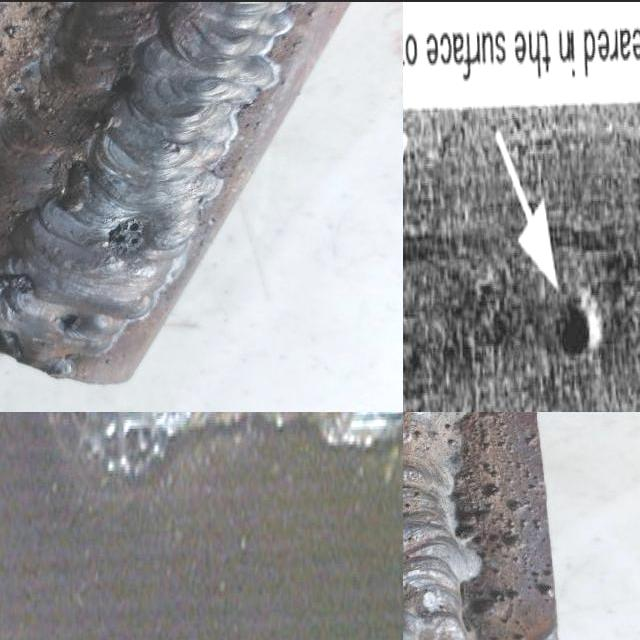defect: (69, 410, 167, 470), (548, 295, 610, 386), (104, 216, 155, 254), (0, 272, 38, 297), (48, 310, 83, 332), (110, 72, 139, 95)
